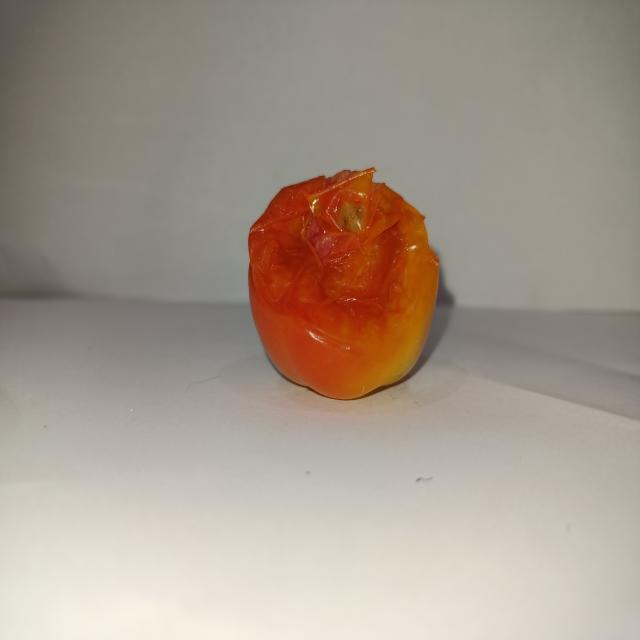Red: (246, 165, 440, 400)
